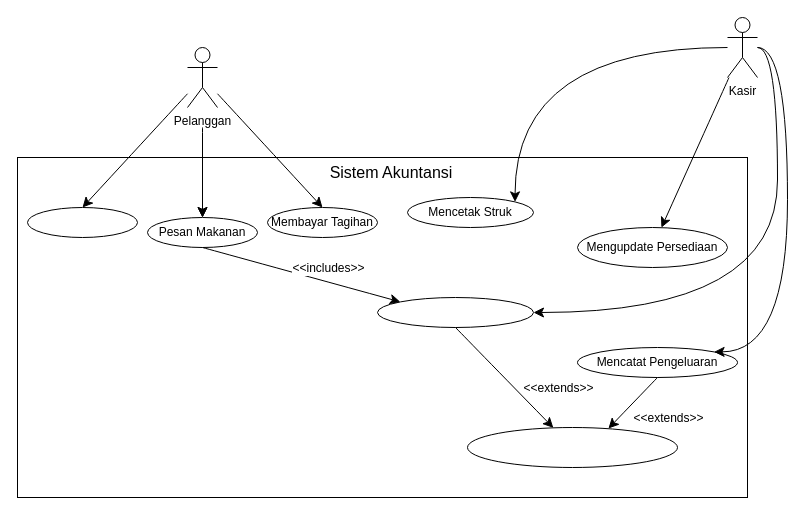
Image size: 805x515. Some labels were removed from this diagram. The shapes that lost their labels are listed below. From the top down, each one's centre as x and y in pixels, then its label:
At (x=82, y=222): "Melihat menu".
At (x=455, y=312): "Mencatat Penjualan".
At (x=572, y=447): "Menghasilkan Laporan Keuangan".
